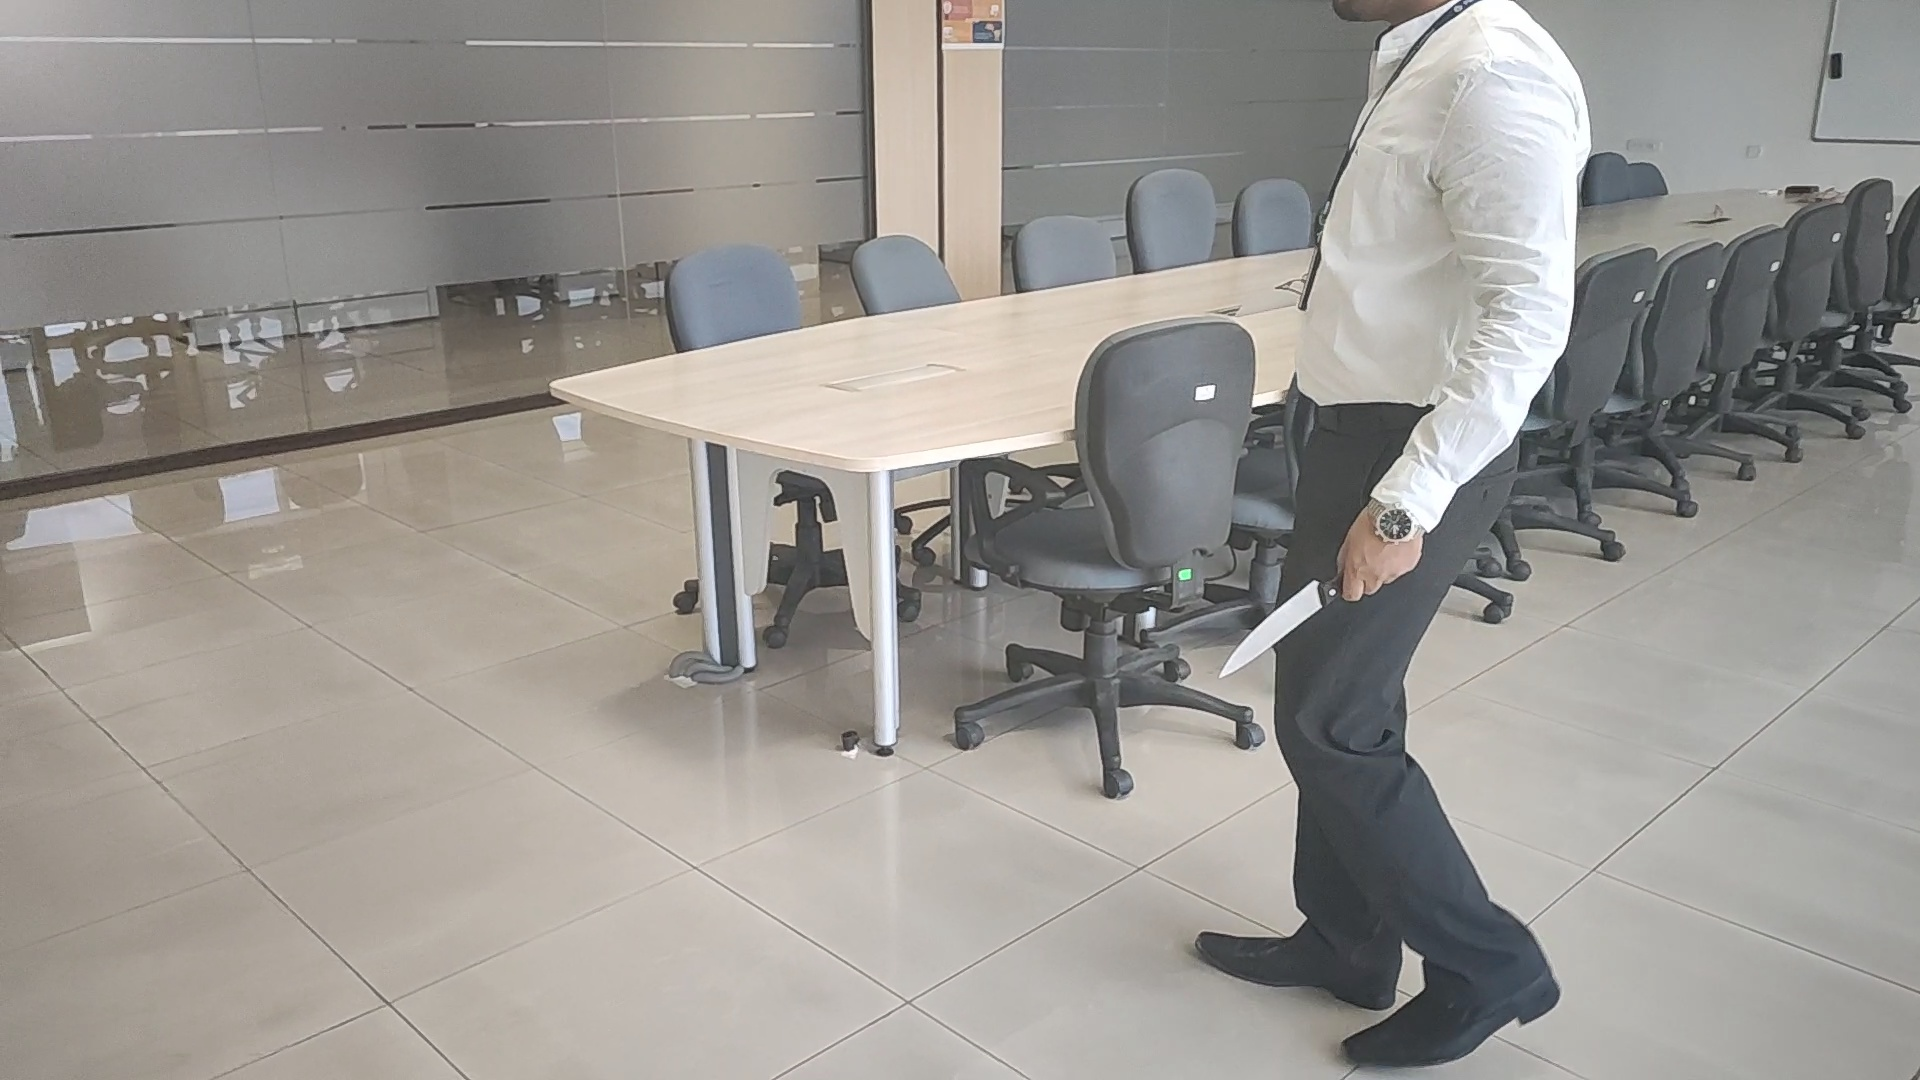knife: (1218, 574, 1342, 680)
